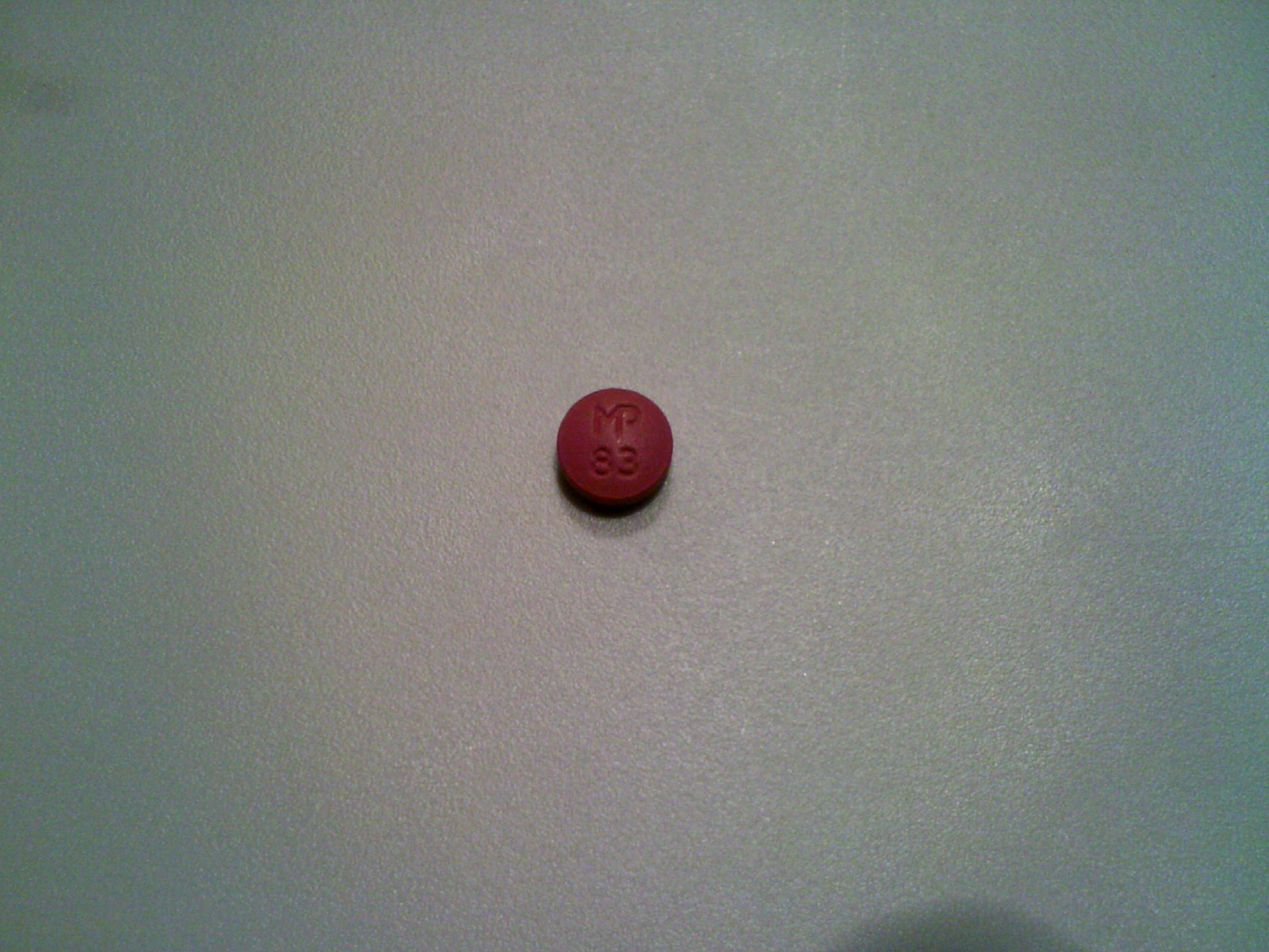Pill: (548, 380, 679, 517)
